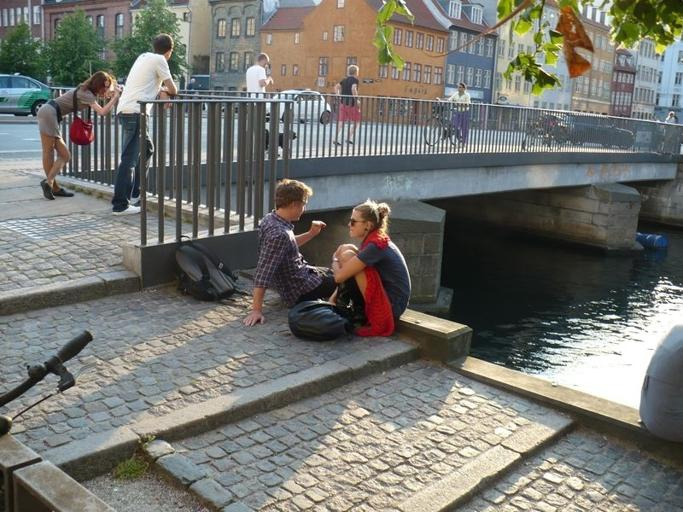non-vehicle: (0, 319, 96, 512), (422, 97, 472, 149), (519, 115, 564, 151)
